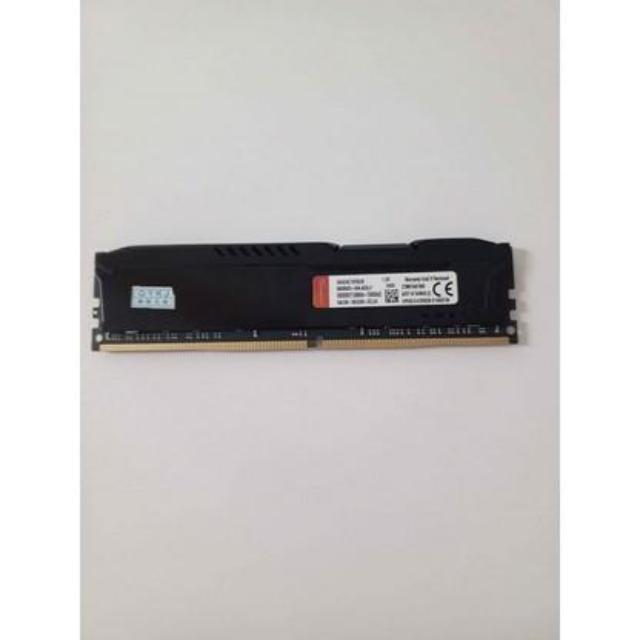RAM: (91, 238, 523, 356)
